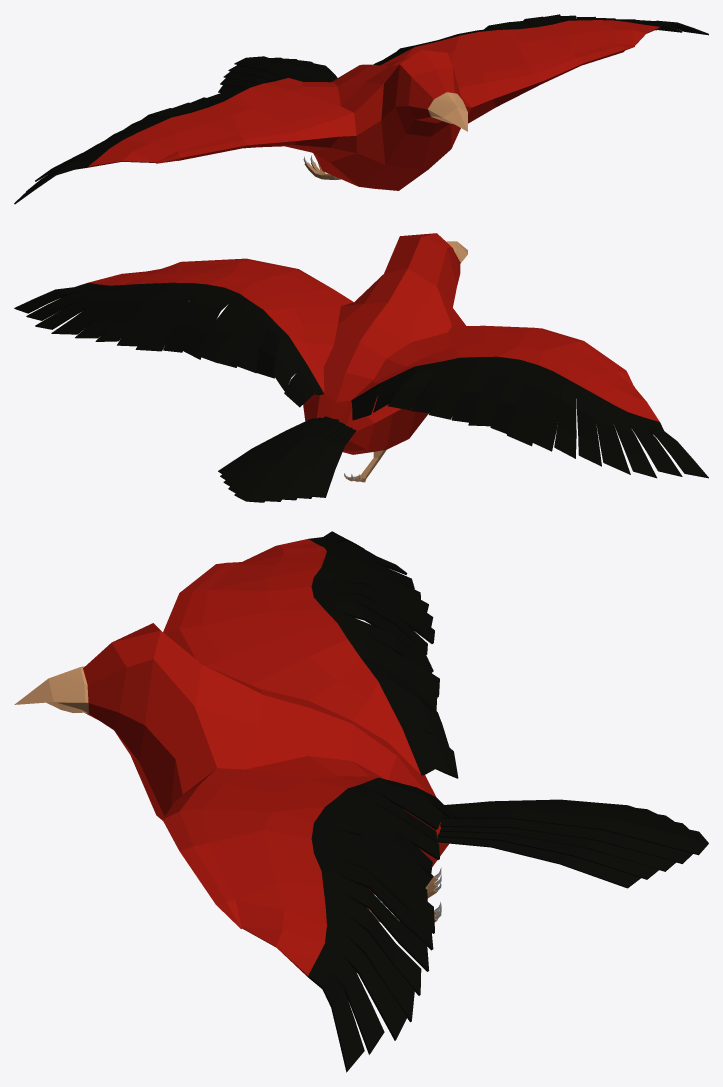
File: low_poly_bird.glb
3 renders of one model, top to bottom at view 1: azimuth 30°, elevation 25°; view 2: azimuth 150°, elevation 25°; view 3: azimuth 270°, elevation 25°, orthographic. The views are drawn at different scales.
Visible parts, largest first — view 1: Body_High, Cola_High; view 2: Body_High, Cola_High; view 3: Body_High, Cola_High.
Boxes of the visible parts, x1=… form: Body_High: x1=14, y1=14, x2=708, y2=204; Cola_High: x1=218, y1=56, x2=337, y2=92; Body_High: x1=14, y1=233, x2=708, y2=482; Cola_High: x1=218, y1=416, x2=356, y2=502; Body_High: x1=14, y1=531, x2=458, y2=1072; Cola_High: x1=436, y1=799, x2=708, y2=888.
Bounding box in the file's own units: 0.3168 × 0.0785 × 0.1753.
1 material, 1 textured.
